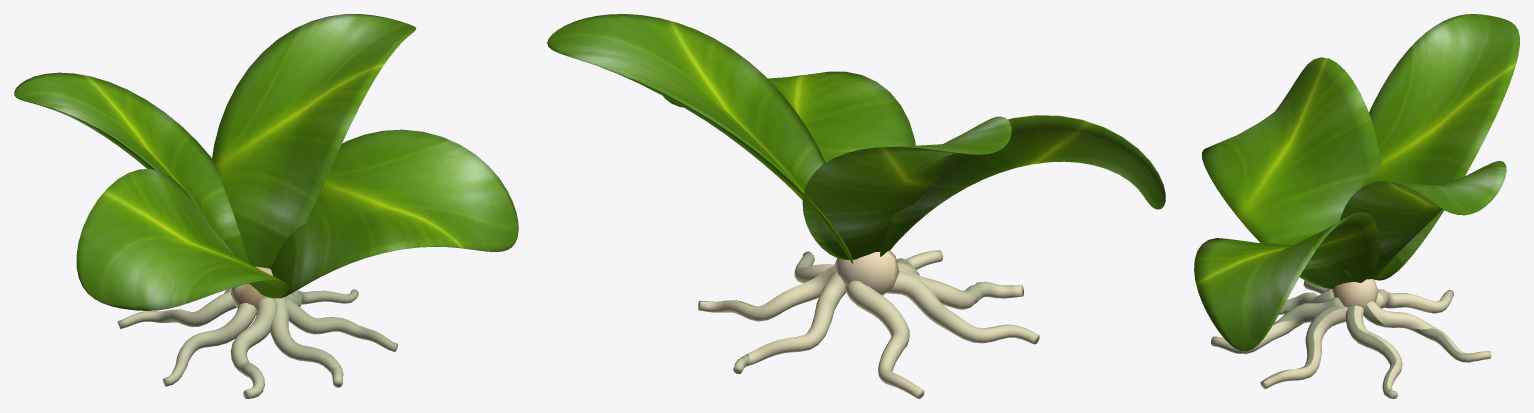
The model's file is NP_Orchid_Young.fbx.
3 views of the same model, side by side, from view 1: azimuth 30°, elevation 25°; view 2: azimuth 150°, elevation 25°; view 3: azimuth 270°, elevation 25° (orthographic). The views are drawn at different scales.
Visible parts, largest first — view 1: NP_Orchid_Young; view 2: NP_Orchid_Young; view 3: NP_Orchid_Young.
Part boxes in pixels (box(x1,y1,x2,y2)): NP_Orchid_Young: box(14, 14, 518, 398); NP_Orchid_Young: box(547, 14, 1165, 398); NP_Orchid_Young: box(1194, 14, 1519, 398).
Size of the model in its own units: 59.35 by 32.25 by 38.96.
1 material, 1 textured.
